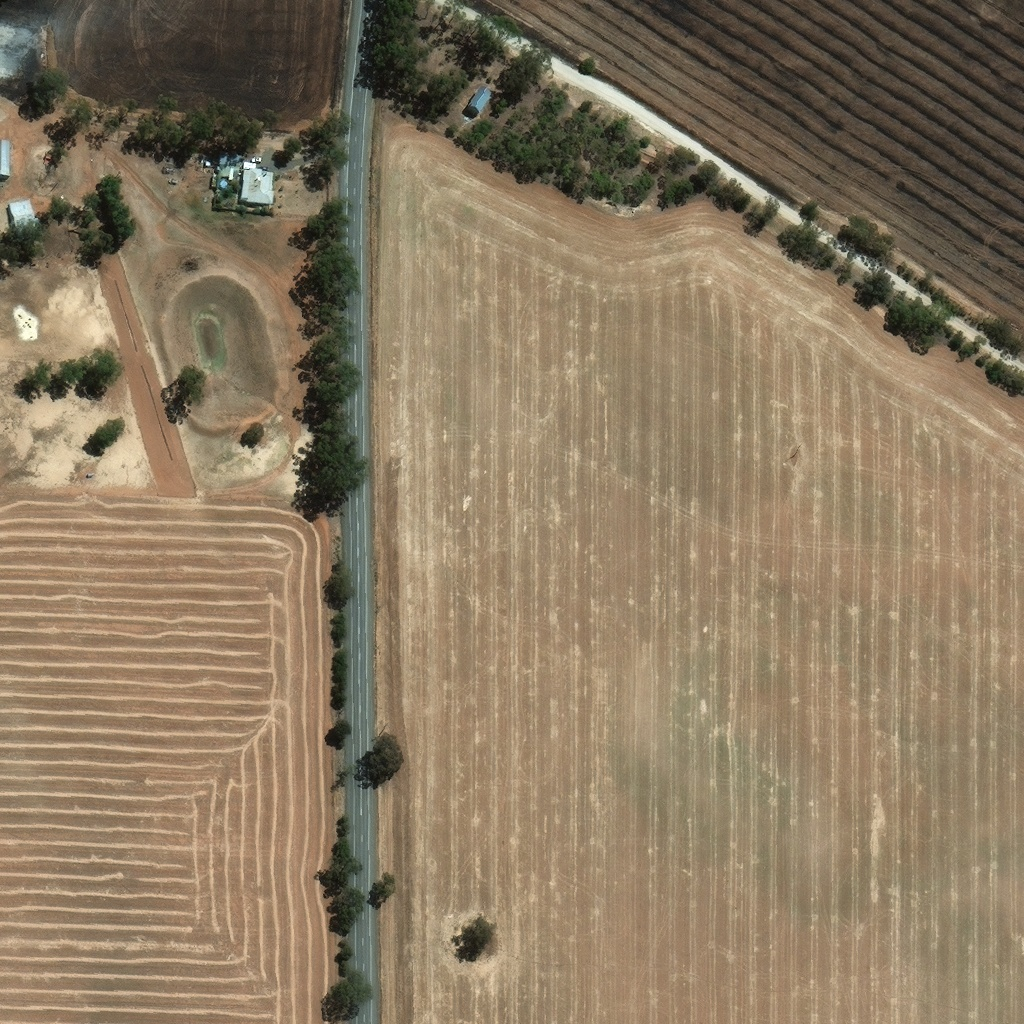0 no-damage: (241, 164, 276, 201), (10, 193, 37, 224), (465, 88, 492, 116)
4 un-classified: (0, 137, 12, 174), (288, 161, 302, 170), (207, 156, 213, 162)
